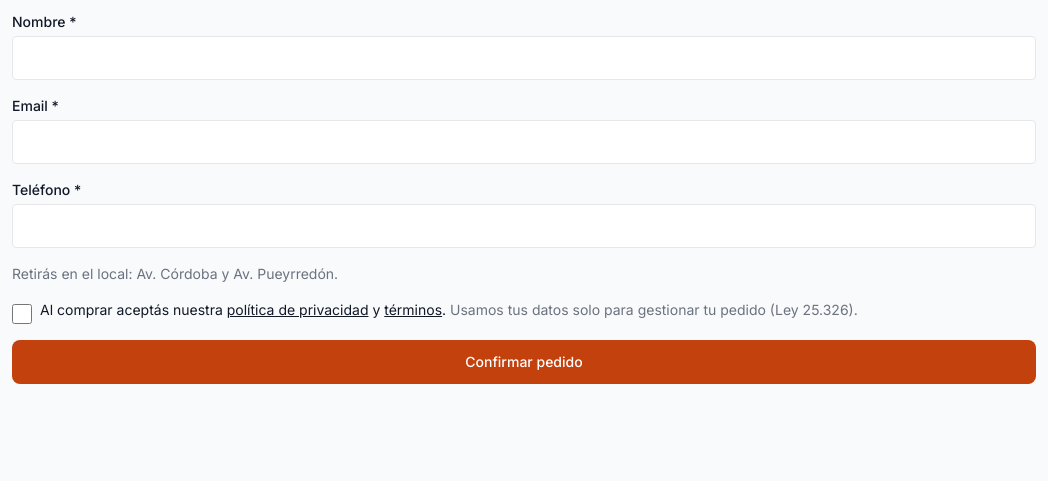
Scenario: CheckoutForm — errores del servidor (D5) › 422 con field: buyer.email marca ESE campo y ningún otro
Type "Ana Gómez" into the field labelled "Nombre *" at [524, 58], box [12,36,1036,80]
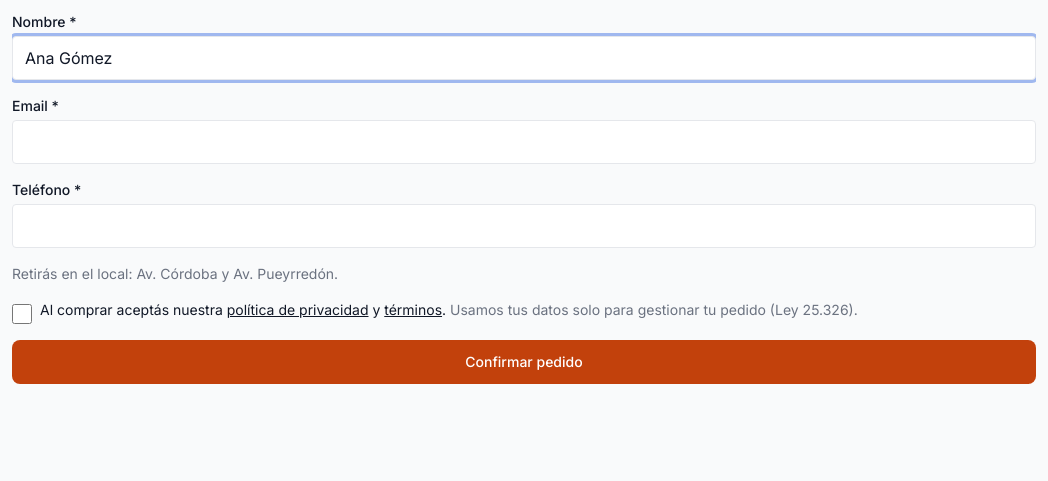
Type "ana@example.com" into the field labelled "Email *" at [524, 142], box [12,120,1036,164]
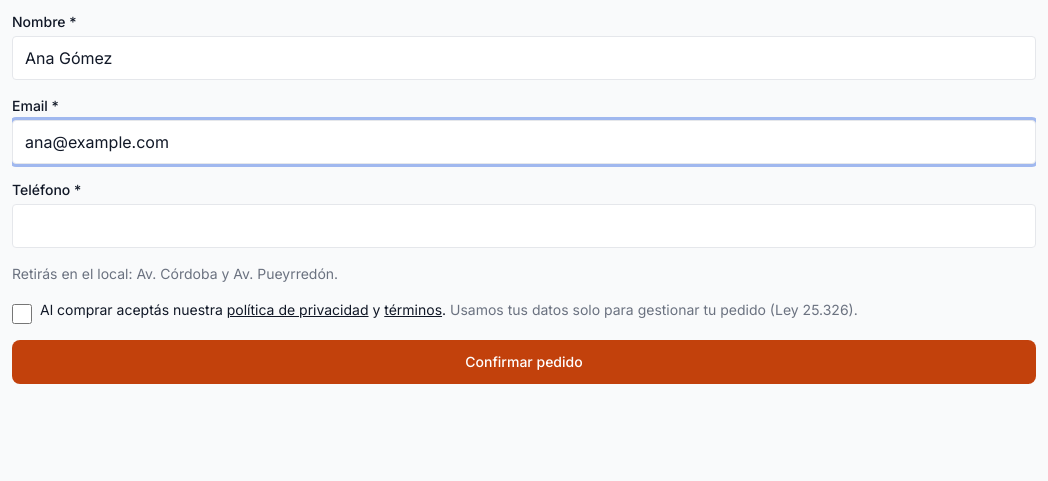
Type "+54 9 11 5555 5555" into the field labelled "Teléfono *" at [524, 226], box [12,204,1036,248]
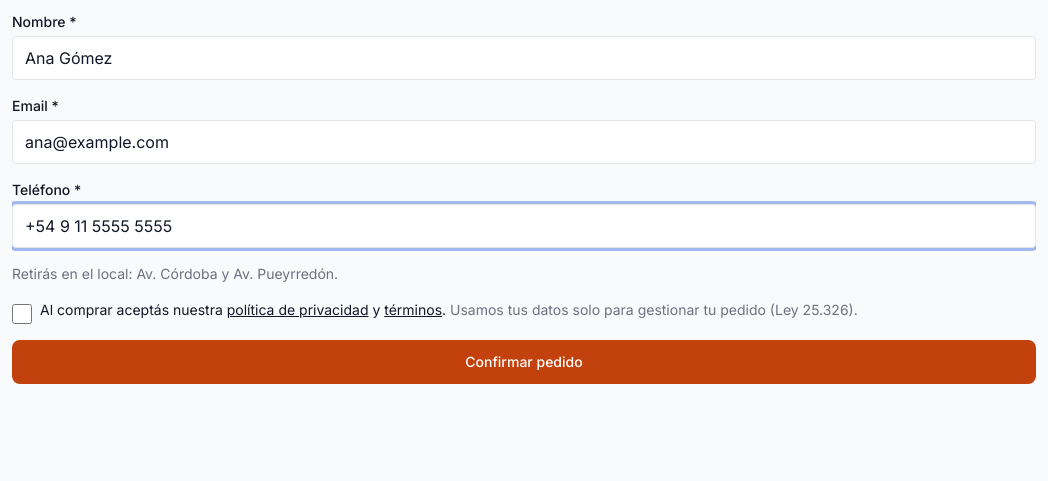
Click the checkbox at [22, 314], box [12,304,32,324]
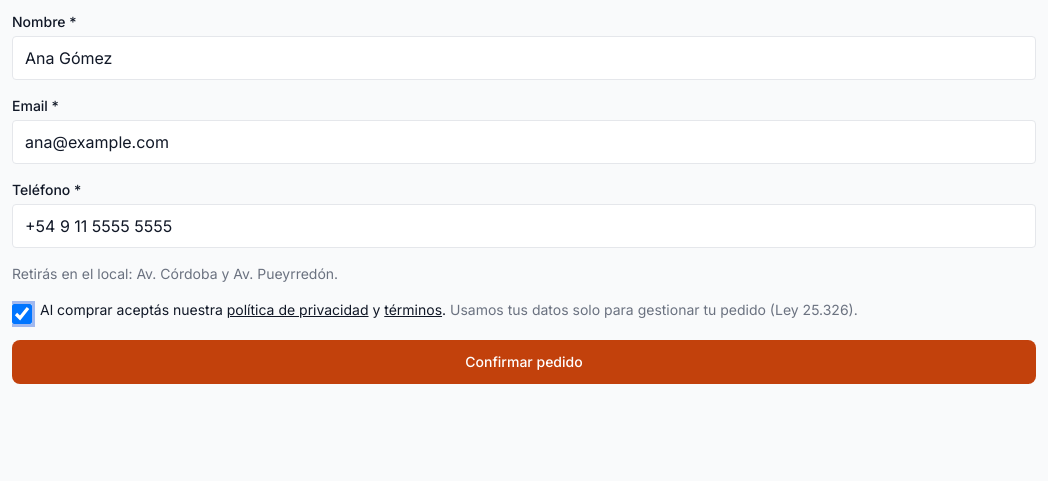
Click the button "Confirmar pedido" at [524, 362], box [12,340,1036,384]
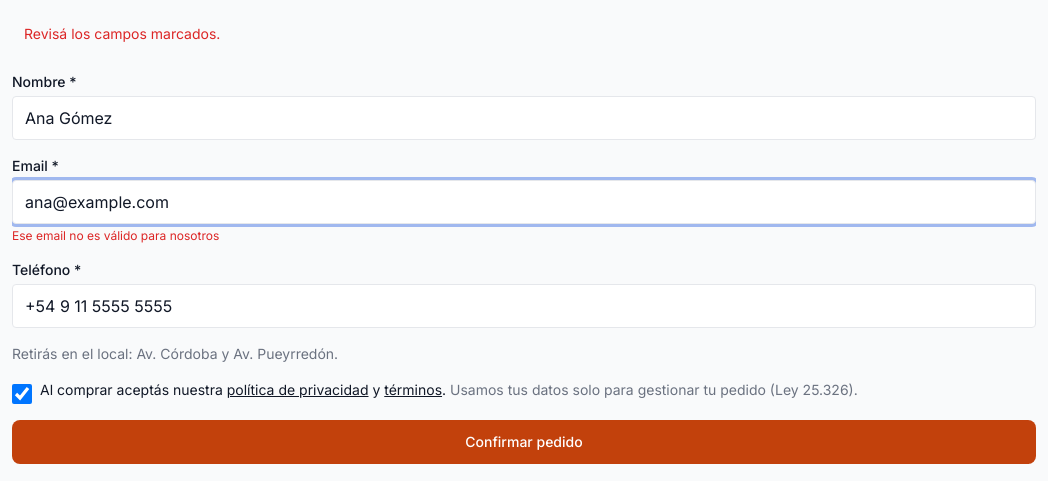
Check: the text "Ese email no es válido para nosotros" is shown, box [12,228,219,243]
